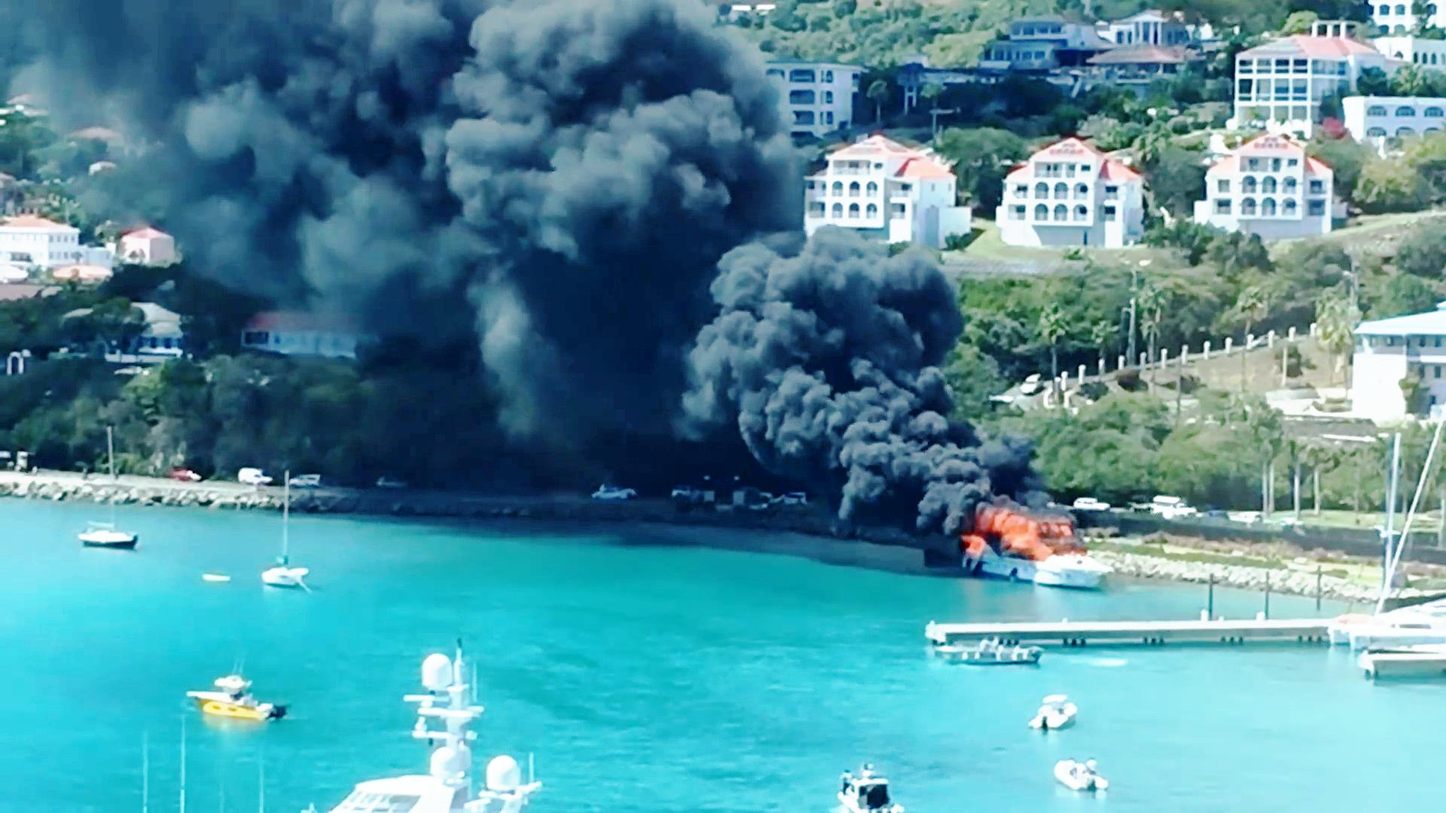smoke: (445, 0, 772, 416), (701, 250, 961, 522), (128, 0, 400, 239), (703, 238, 968, 440)
